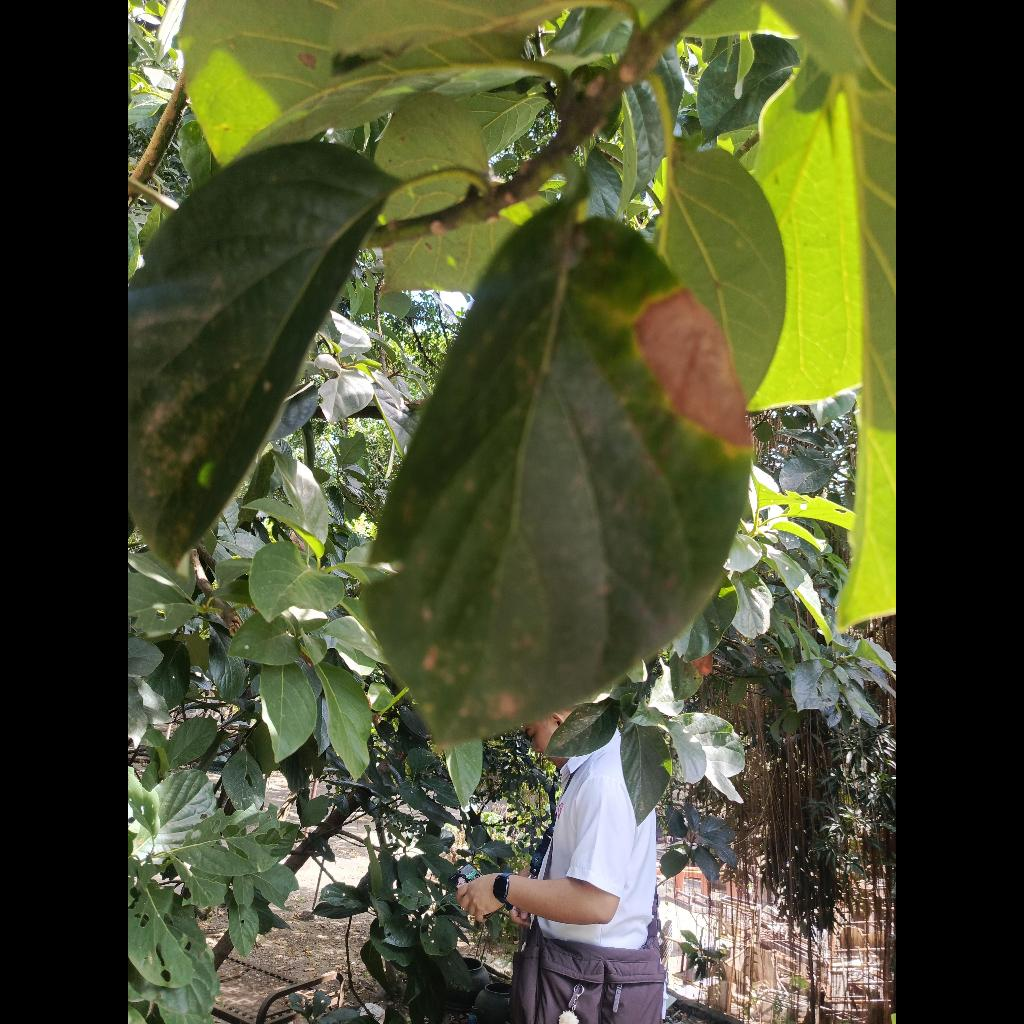Anthracnose: (368, 199, 751, 743)
